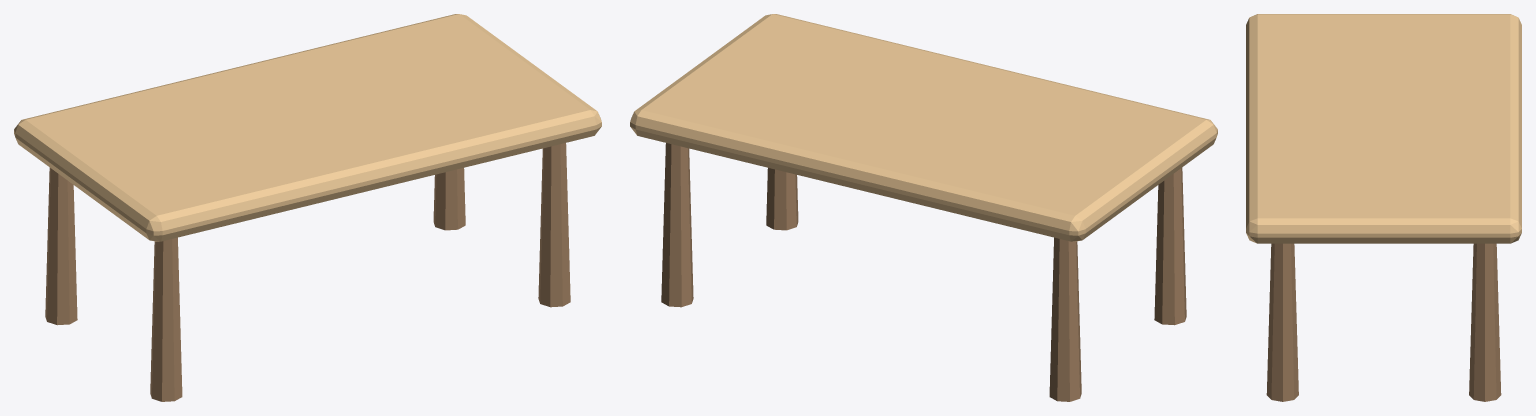
The model's file is cozy-home-interiors-coffee-table-bc8215cc.glb.
3 renders of one model, left to right at view 1: azimuth 30°, elevation 25°; view 2: azimuth 150°, elevation 25°; view 3: azimuth 270°, elevation 25°, orthographic. The views are drawn at different scales.
Parts seen in each view (by area): view 1: coffee-table; view 2: coffee-table; view 3: coffee-table.
Boxes of the visible parts, x1,y1,x2,y2 form: coffee-table: (14, 14, 601, 401); coffee-table: (630, 14, 1217, 401); coffee-table: (1246, 14, 1521, 401).
Bounding box in the file's own units: 1.1 × 0.45 × 0.6.
